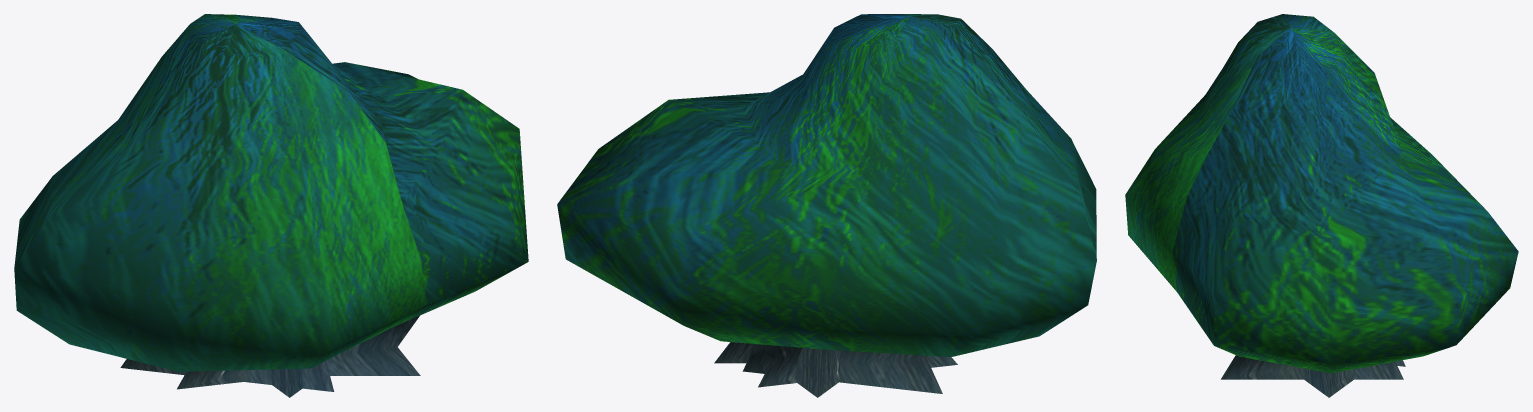
File: s0_Veg_Bush_01_d_Art_01.glb
The picture shows the model from 3 angles, left to right: view 1: azimuth 30°, elevation 25°; view 2: azimuth 150°, elevation 25°; view 3: azimuth 270°, elevation 25°; orthographic projection. The views are drawn at different scales.
Visible parts, largest first — view 1: node_Veg_Bush_01_d_Art; view 2: node_Veg_Bush_01_d_Art; view 3: node_Veg_Bush_01_d_Art.
Part boxes in pixels (x1,y1,x2,y2): node_Veg_Bush_01_d_Art: (14, 14, 528, 397); node_Veg_Bush_01_d_Art: (557, 14, 1096, 397); node_Veg_Bush_01_d_Art: (1125, 14, 1518, 397).
Size of what is drawn, in the model's own units: 2.98 by 1.94 by 2.35.
2 materials, 2 textured.
